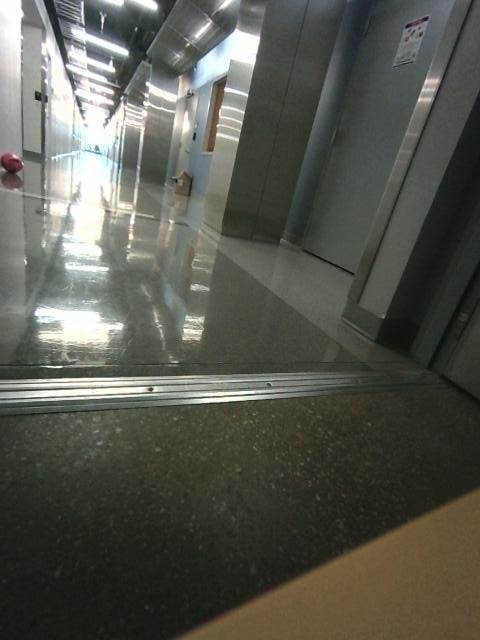ball: (0, 152, 23, 172)
